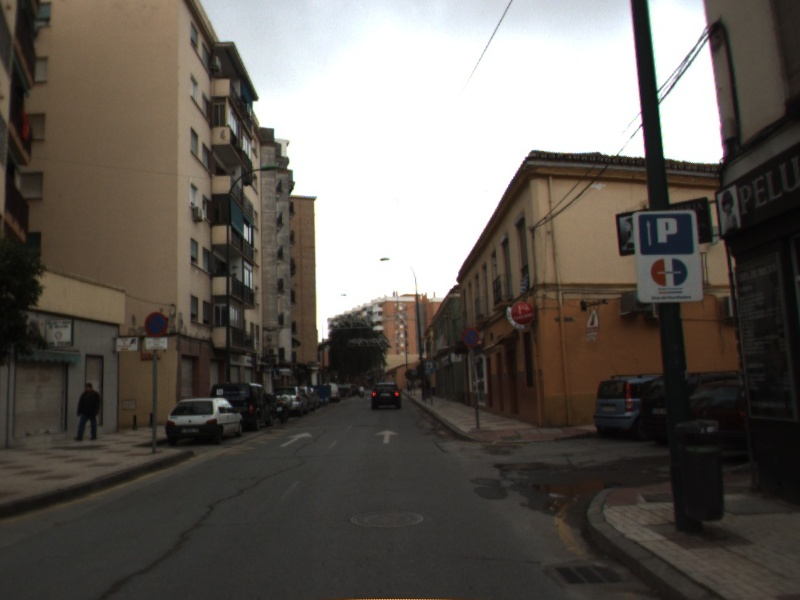STRAIGHT: (278, 430, 315, 449), (372, 427, 401, 446)
